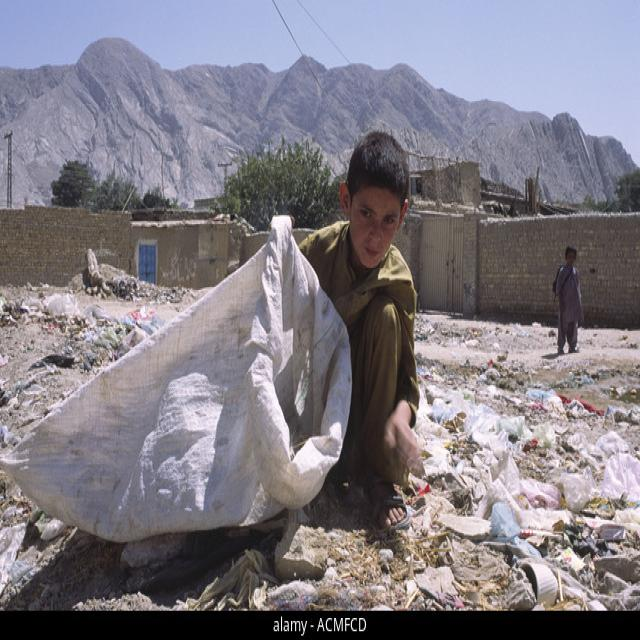plastic: (441, 394, 500, 444), (601, 436, 640, 496), (560, 474, 599, 512), (492, 504, 520, 539)
trash: (35, 220, 305, 539)
